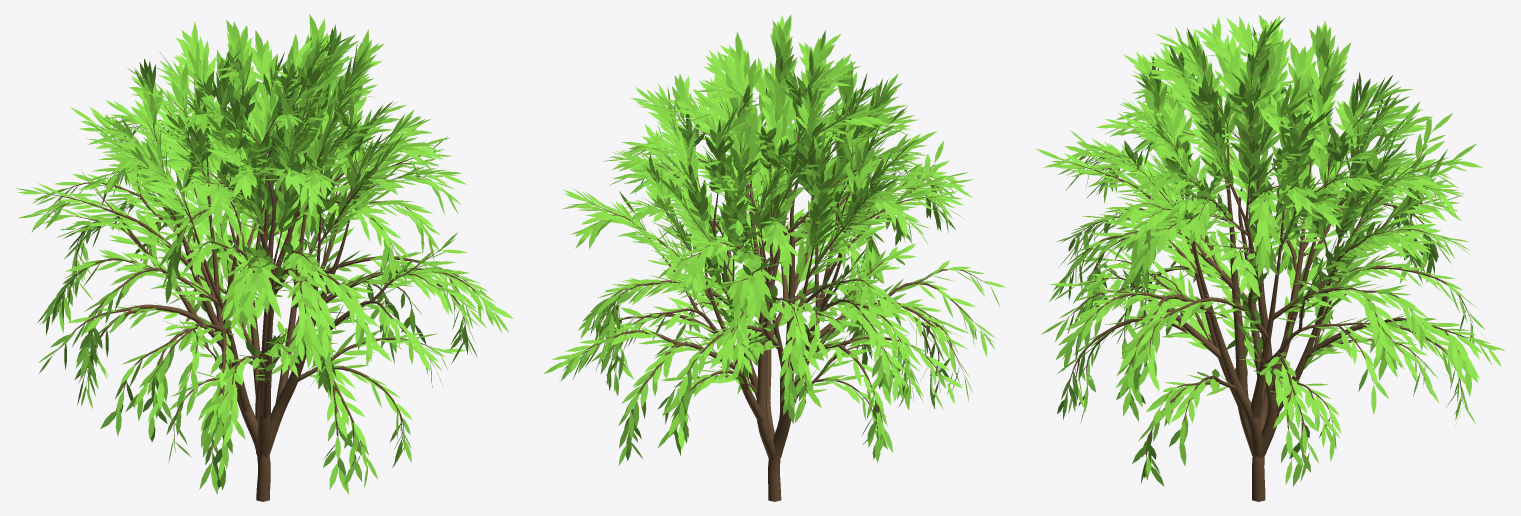
Rendered from treeNew.glb.
3 renders of one model, left to right at view 1: azimuth 30°, elevation 25°; view 2: azimuth 150°, elevation 25°; view 3: azimuth 270°, elevation 25°, orthographic. The views are drawn at different scales.
Visible parts, largest first — view 1: leaves, tree; view 2: leaves, tree; view 3: leaves, tree.
Part boxes in pixels (x1,y1,x2,y2): leaves: (16, 14, 513, 494); tree: (42, 50, 491, 501); leaves: (544, 14, 1006, 465); tree: (569, 66, 989, 501); leaves: (1036, 14, 1505, 486); tree: (1065, 41, 1474, 501).
Bounding box in the file's own units: 5.78 × 6.85 × 6.09.
